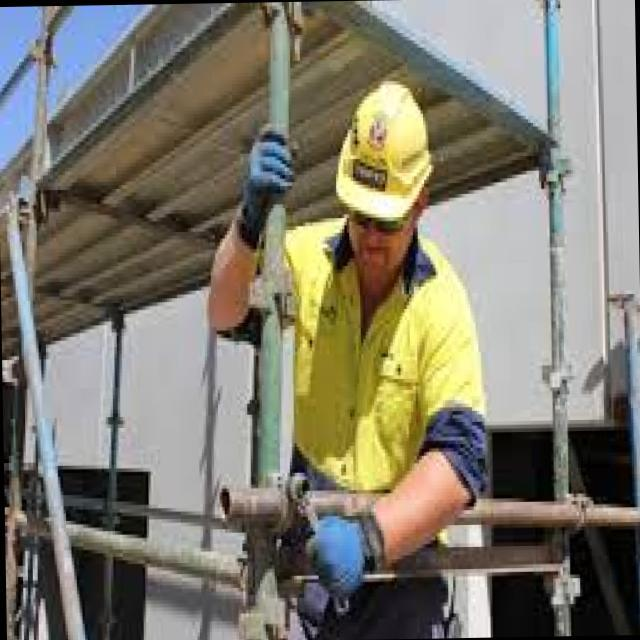gloved: (301, 502, 385, 609), (236, 125, 296, 248)
